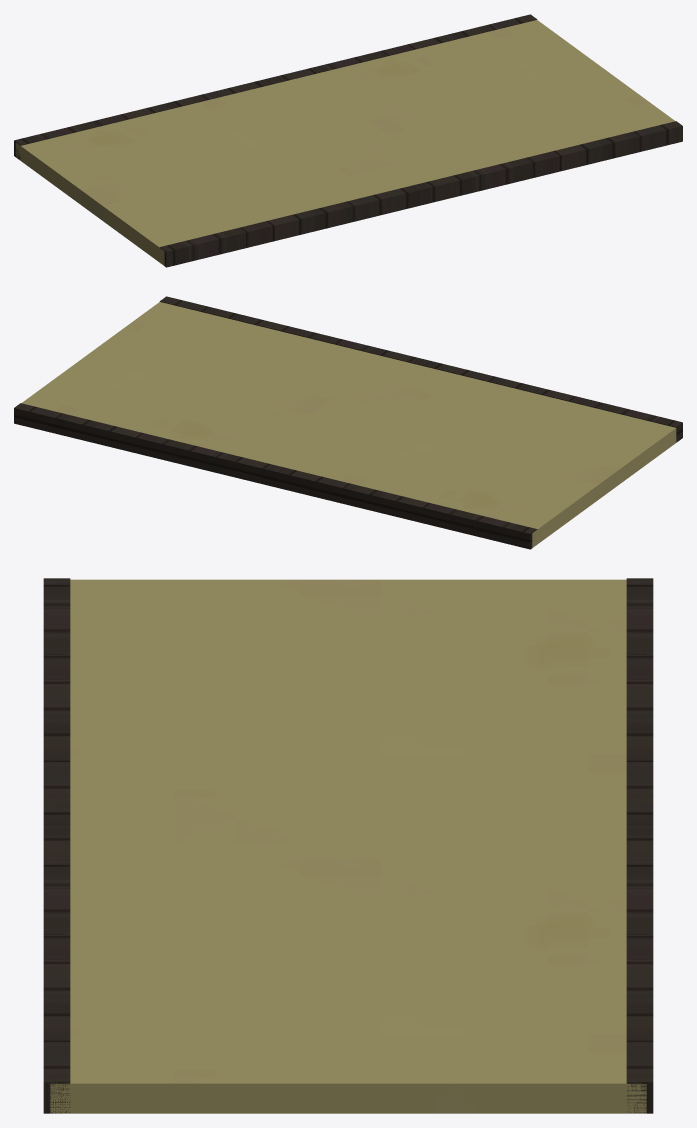
Rendered from tatami_mat_01.glb.
The picture shows the model from 3 angles, top to bottom: view 1: azimuth 30°, elevation 25°; view 2: azimuth 150°, elevation 25°; view 3: azimuth 270°, elevation 25°; orthographic projection. The views are drawn at different scales.
Visible parts, largest first — view 1: tatami_mat_01; view 2: tatami_mat_01; view 3: tatami_mat_01.
Boxes of the visible parts, x1,y1,x2,y2 form: tatami_mat_01: [14, 14, 682, 267]; tatami_mat_01: [14, 296, 682, 549]; tatami_mat_01: [43, 578, 653, 1113].
Size of the model in its own units: 1.8 by 0.0521 by 0.9201.
2 materials, 2 textured.
